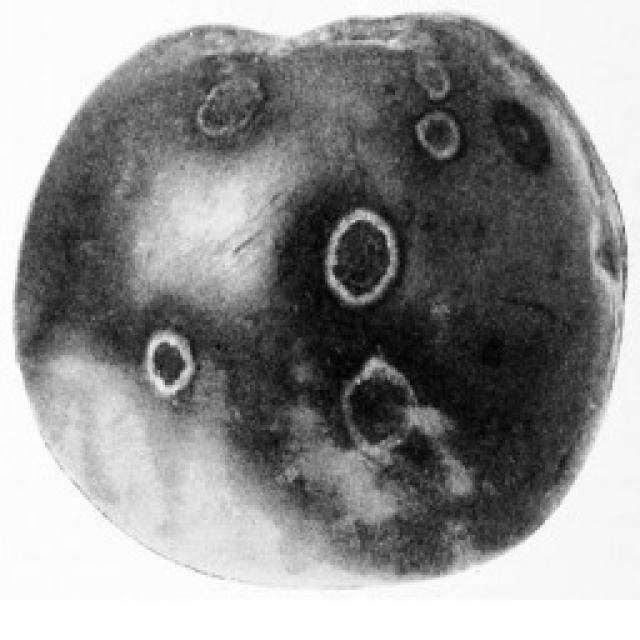defective: (10, 8, 628, 585)
